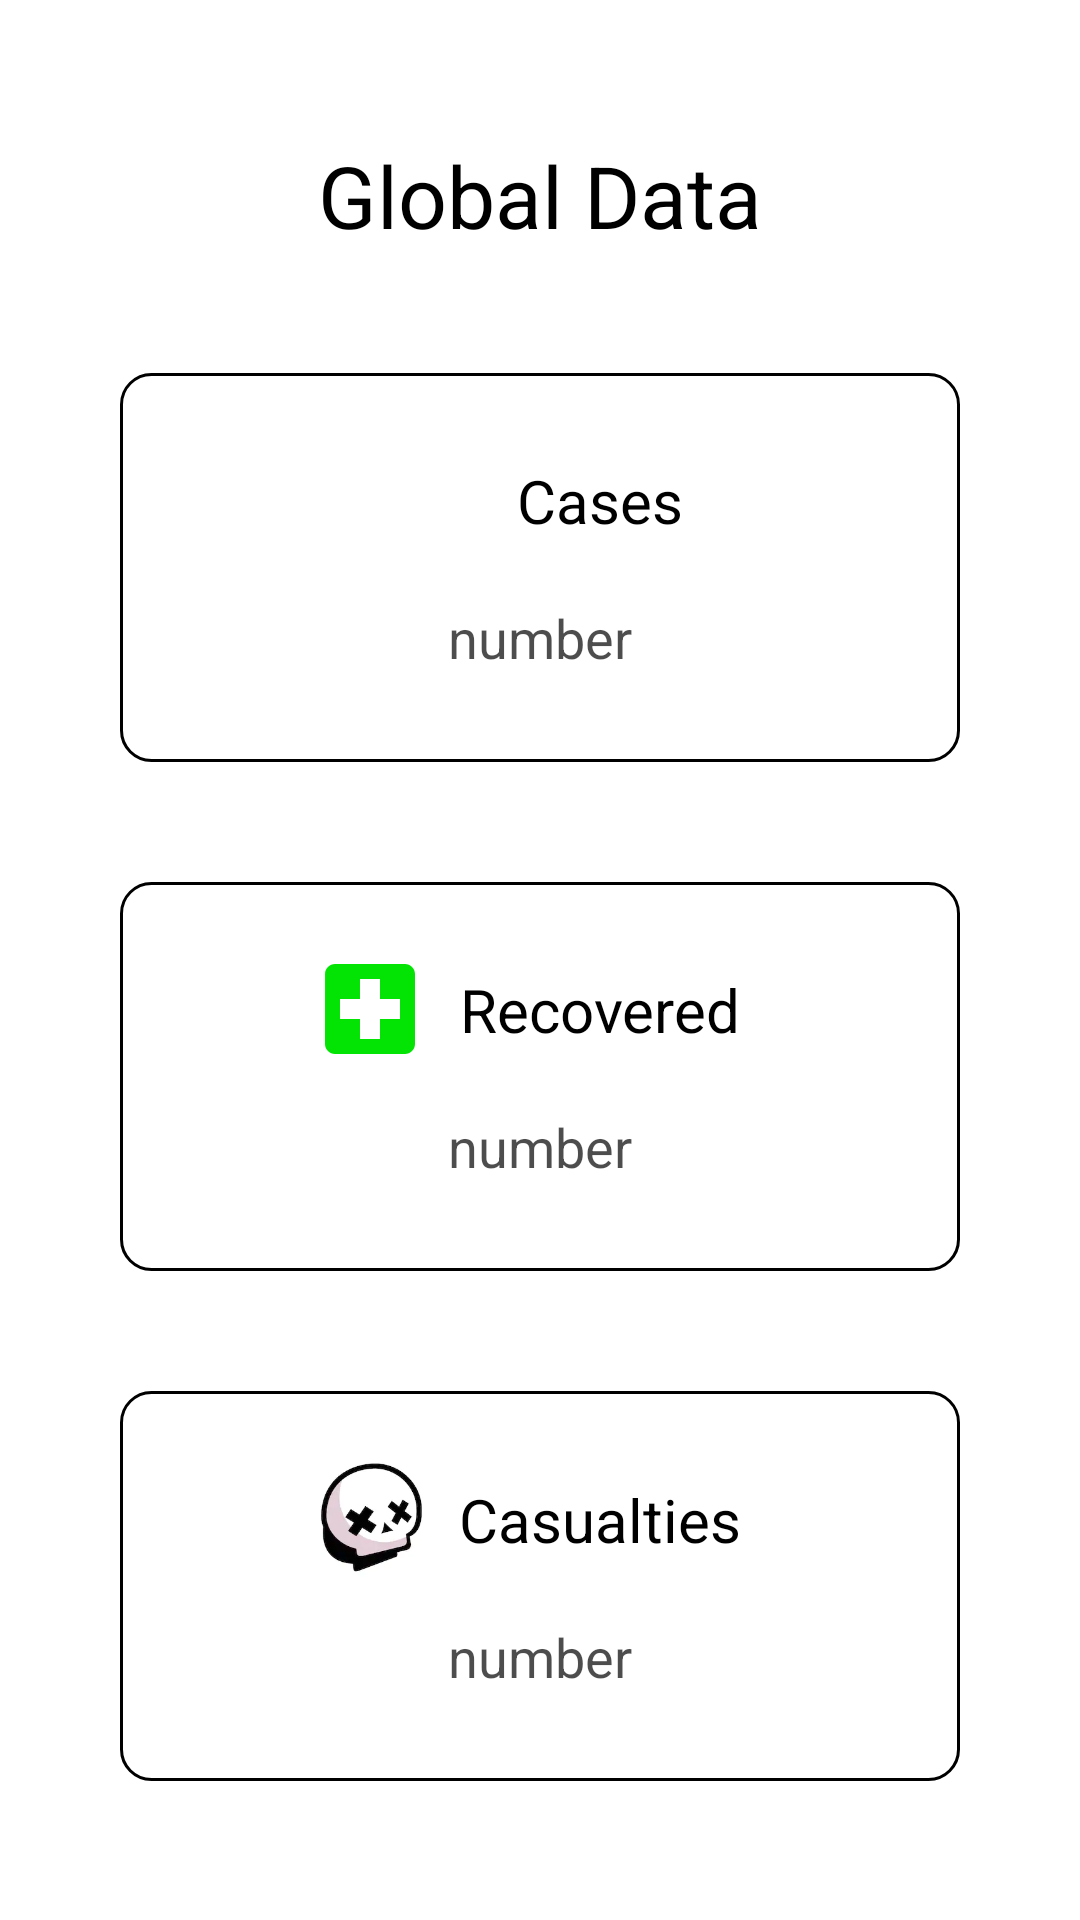

Named icons in this screenshot (1080 x 1920) and their centers, (x=x, y=y):
defeat: (x=371, y=1517)
heal: (x=370, y=1009)
